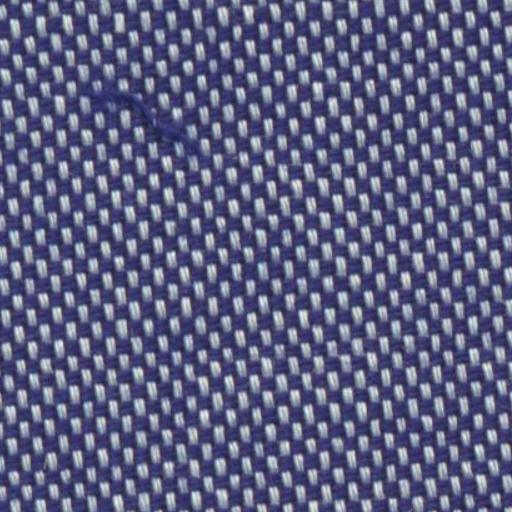DuanSha: (72, 71, 205, 154)
